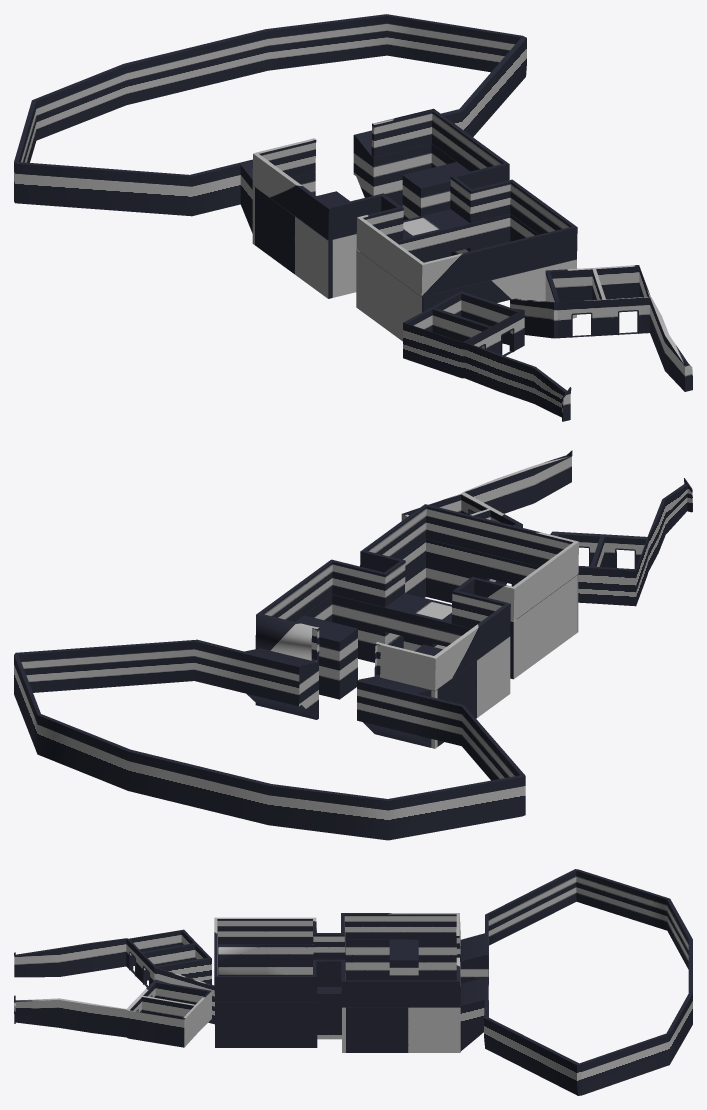
Rendered from wallstry1.fbx.
3 renders of one model, top to bottom at view 1: azimuth 30°, elevation 25°; view 2: azimuth 150°, elevation 25°; view 3: azimuth 270°, elevation 25°, orthographic. The views are drawn at different scales.
Visible parts, largest first — view 1: EngineRoom, Top-Back Room Walls, HangerRoomWalls, Bedrooms_Right, Modular Room, Bedrooms_Left, FrontRoomCorridorWalls, LowerConnectingCorridor; view 2: EngineRoom, Top-Back Room Walls, HangerRoomWalls, Modular Room, Bedrooms_Right, Bedrooms_Left, LowerConnectingCorridor; view 3: EngineRoom, Top-Back Room Walls, HangerRoomWalls, Modular Room, Bedrooms_Left, Bedrooms_Right, LowerConnectingCorridor, FrontRoomCorridorWalls.
Part boxes in pixels (box(x1,y1,x2,y2)): EngineRoom: box(14, 14, 526, 233); Top-Back Room Walls: box(252, 108, 577, 296); HangerRoomWalls: box(252, 143, 469, 298); Bedrooms_Right: box(403, 291, 571, 421); Modular Room: box(356, 213, 576, 341); Bedrooms_Left: box(545, 265, 692, 391); FrontRoomCorridorWalls: box(502, 298, 557, 346); LowerConnectingCorridor: box(403, 210, 468, 255); EngineRoom: box(14, 639, 525, 840); Top-Back Room Walls: box(255, 504, 578, 690); HangerRoomWalls: box(255, 594, 510, 748); Modular Room: box(399, 539, 578, 679); Bedrooms_Right: box(554, 478, 692, 606); Bedrooms_Left: box(401, 450, 572, 526); LowerConnectingCorridor: box(387, 594, 451, 649); EngineRoom: box(460, 869, 692, 1095); Top-Back Room Walls: box(214, 913, 460, 1007); HangerRoomWalls: box(342, 939, 460, 1052); Modular Room: box(215, 944, 317, 1047); Bedrooms_Left: box(14, 980, 211, 1047); Bedrooms_Right: box(14, 929, 211, 987); LowerConnectingCorridor: box(317, 959, 341, 1039); FrontRoomCorridorWalls: box(154, 967, 214, 1024).
Bounding box in the file's own units: 7065 × 1203 × 10340.
1 material, 1 textured.
